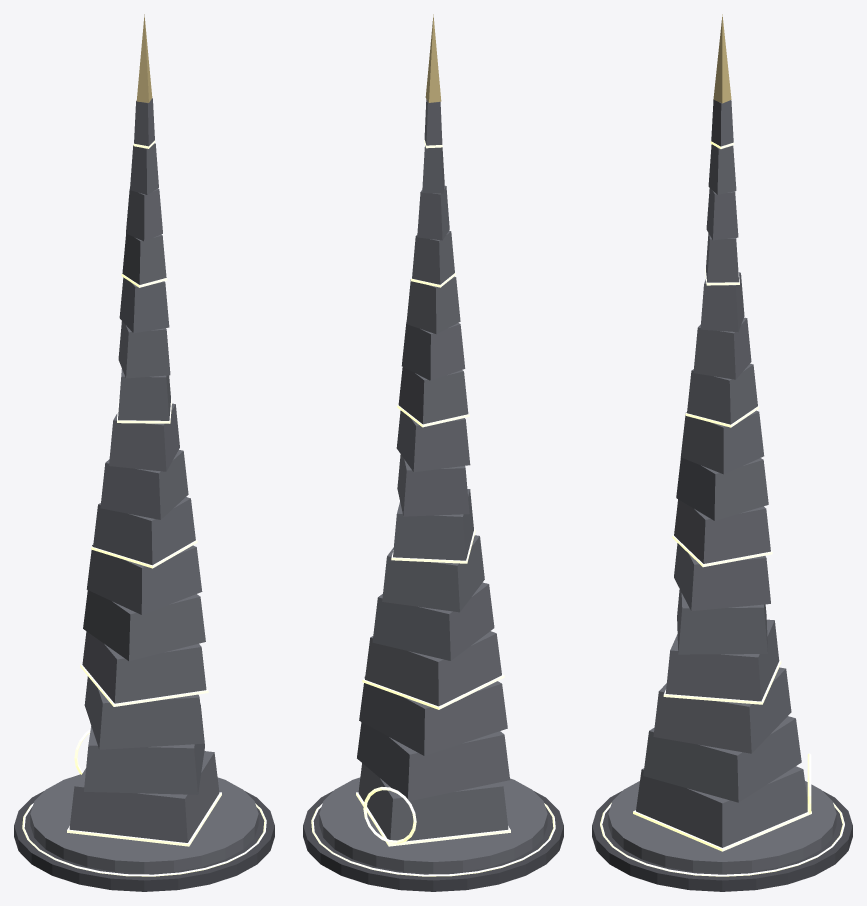
The model's file is zone_high_4.glb.
3 renders of one model, left to right at view 1: azimuth 30°, elevation 25°; view 2: azimuth 150°, elevation 25°; view 3: azimuth 270°, elevation 25°, orthographic.
Visible parts, largest first — view 1: zone_high_4; view 2: zone_high_4; view 3: zone_high_4.
Part boxes in pixels (box(x1,y1,x2,y2)): zone_high_4: box(14, 14, 274, 891); zone_high_4: box(303, 14, 563, 891); zone_high_4: box(592, 14, 852, 891).
Size of the model in its own units: 28.8 by 100 by 28.8.
